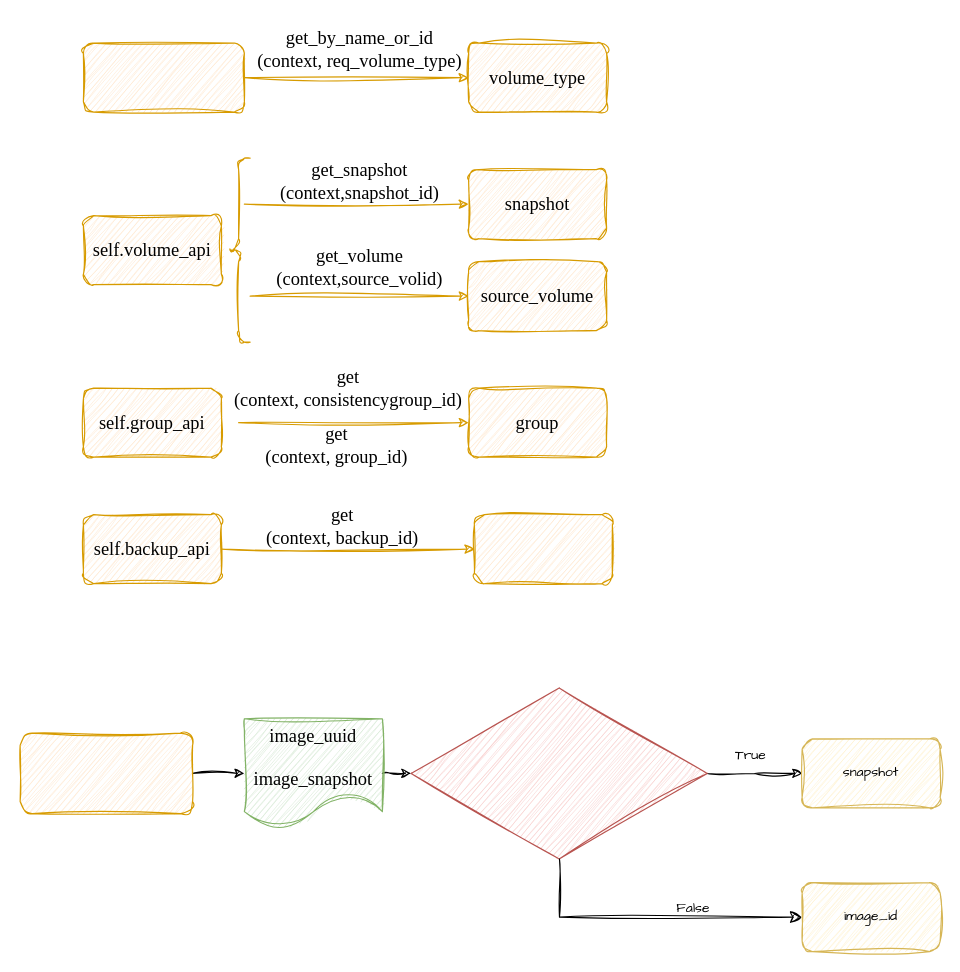
The diagram is 960 pixels wide and 972 high, and some of its shapes have lost their labels. The centre of each missing label's shape, as x and y in pixels:
"api版本是否支持 SUPPORT_NOVA_IMAGE and 镜像中是否有snapshot" belongs at pixel 558 772.
"backup" belongs at pixel 542 548.
"imageRef" belongs at pixel 106 773.
"objects.VolumeType" belongs at pixel 163 77.
